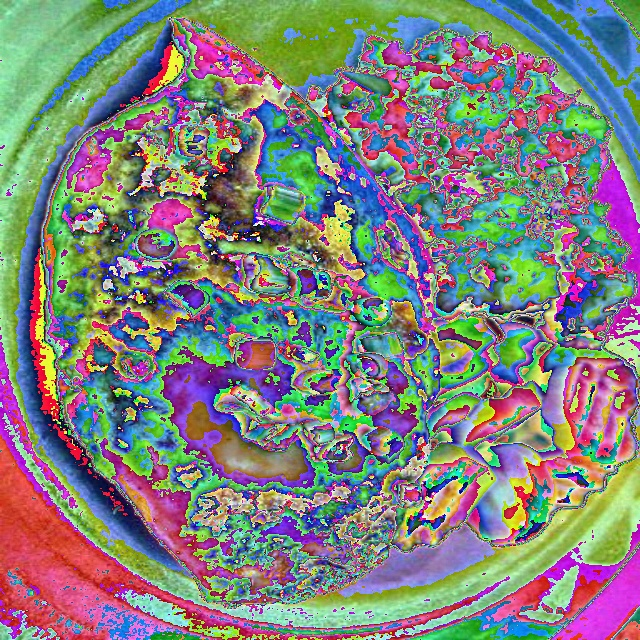background: (42, 17, 639, 611)
